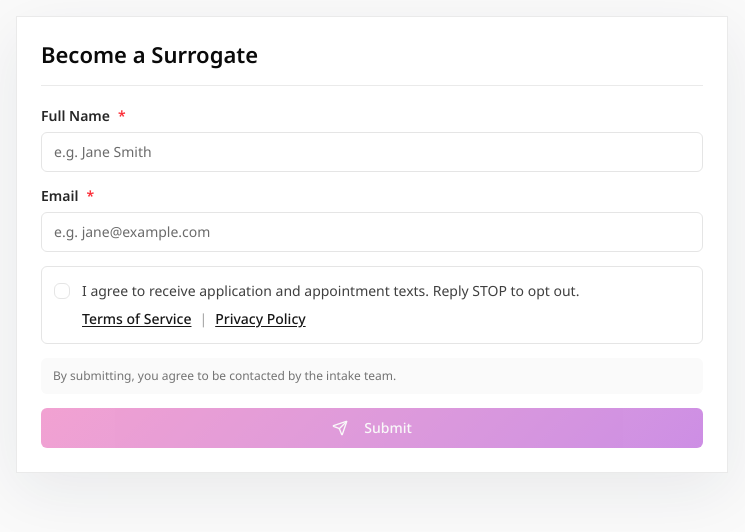
Test: EmbedFormPageClient › SMS consent › blocks checked SMS when the mapped phone field is not on the form
Type "Embed Lead" into the field labelled "Full Name *". click: coordinates (372, 152)
box: [41,132,703,172]
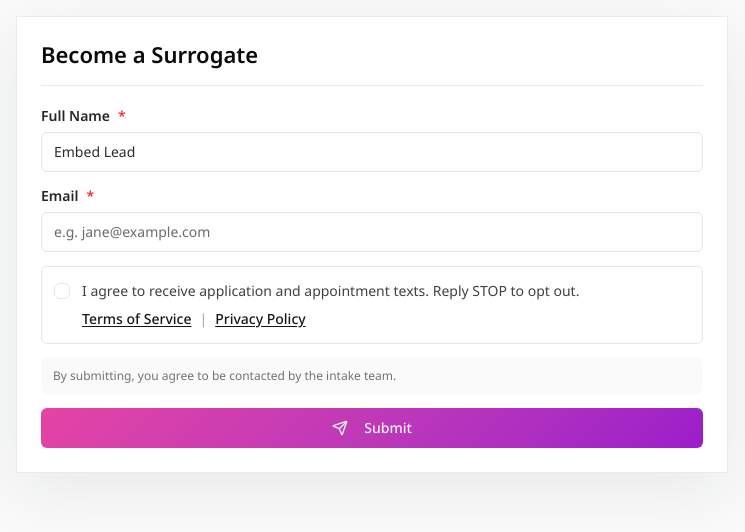
Type "embed@example.com" into the field labelled "Email *". click: coordinates (372, 232)
box: [41,212,703,252]
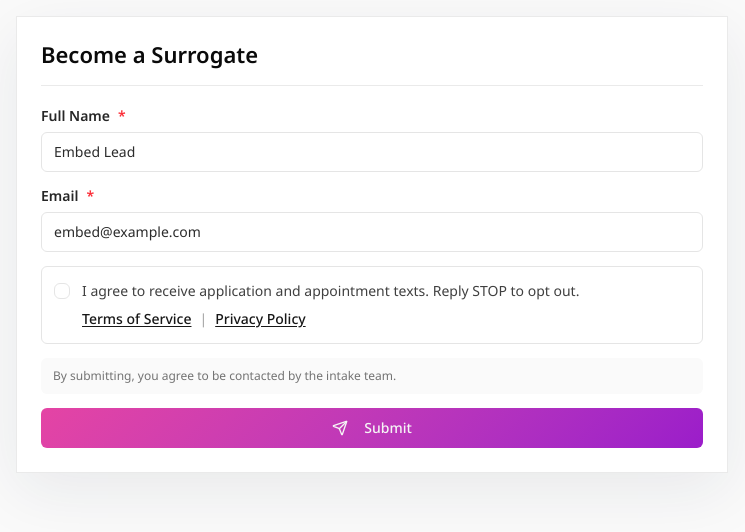
Click the checkbox named "application and appointment texts". click: coordinates (62, 290)
box: [54,282,70,298]
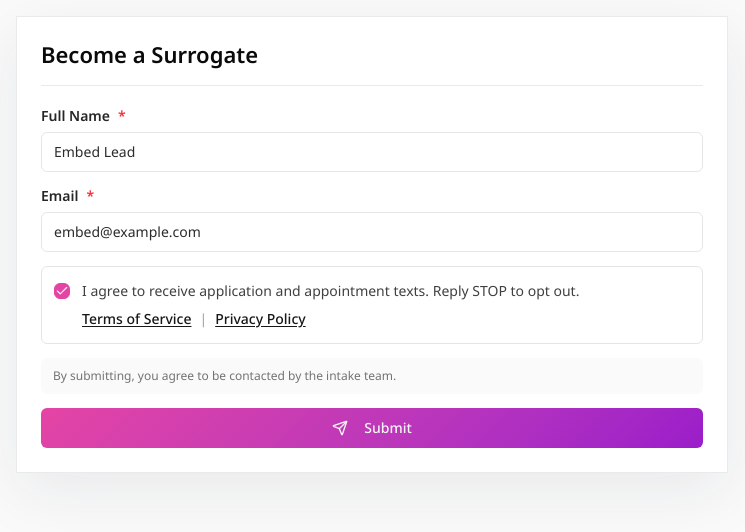
Click the button "Submit". click: coordinates (372, 428)
box: [41,408,703,448]
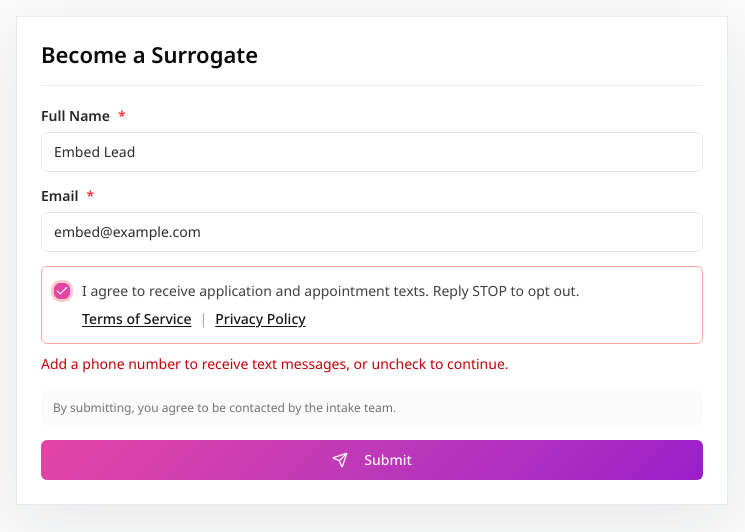
Expected: the text "Add a phone number to receive text messages, or uncheck to continue." is shown, [41,354,508,372]
